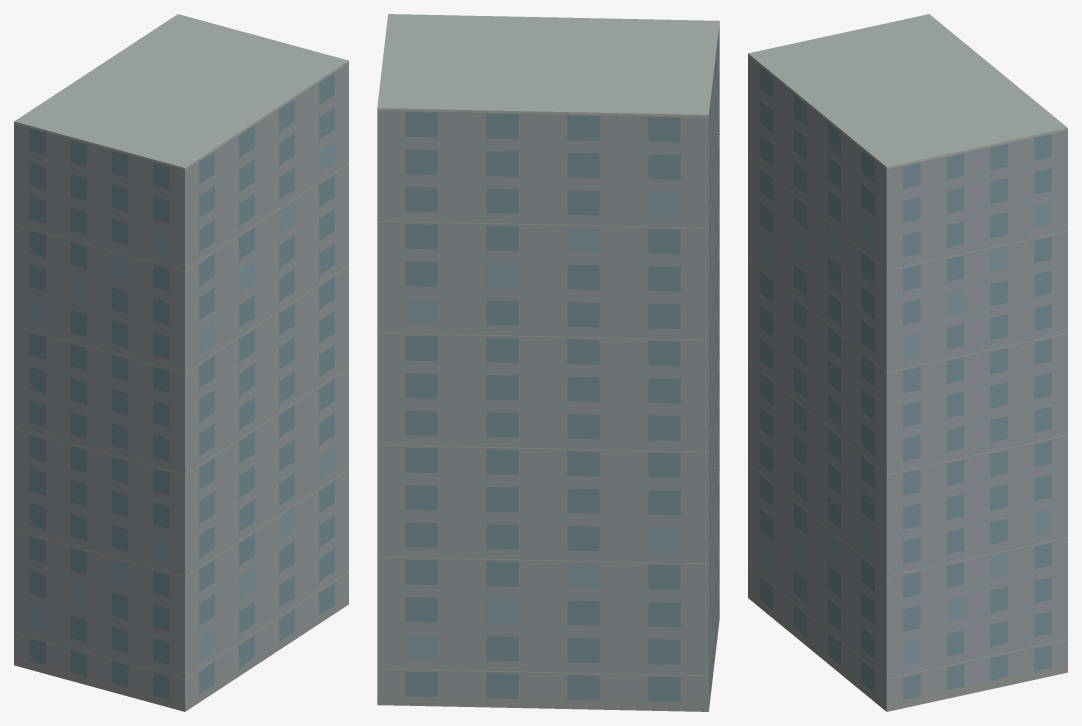
Rendered from residential-bca651fe-7260-4002-a74e-a858fe298025.glb.
3 views of the same model, side by side, from view 1: azimuth 30°, elevation 25°; view 2: azimuth 150°, elevation 25°; view 3: azimuth 270°, elevation 25° (orthographic). The views are drawn at different scales.
Parts seen in each view (by area): view 1: residential-bca651fe-7260-4002-a74e-a858fe298025.tmp; view 2: residential-bca651fe-7260-4002-a74e-a858fe298025.tmp; view 3: residential-bca651fe-7260-4002-a74e-a858fe298025.tmp.
Boxes of the visible parts, x1=… form: residential-bca651fe-7260-4002-a74e-a858fe298025.tmp: x1=14, y1=14, x2=348, y2=711; residential-bca651fe-7260-4002-a74e-a858fe298025.tmp: x1=377, y1=14, x2=719, y2=711; residential-bca651fe-7260-4002-a74e-a858fe298025.tmp: x1=748, y1=14, x2=1067, y2=711.
Bounding box in the file's own units: 38.02 × 63 × 33.53.
